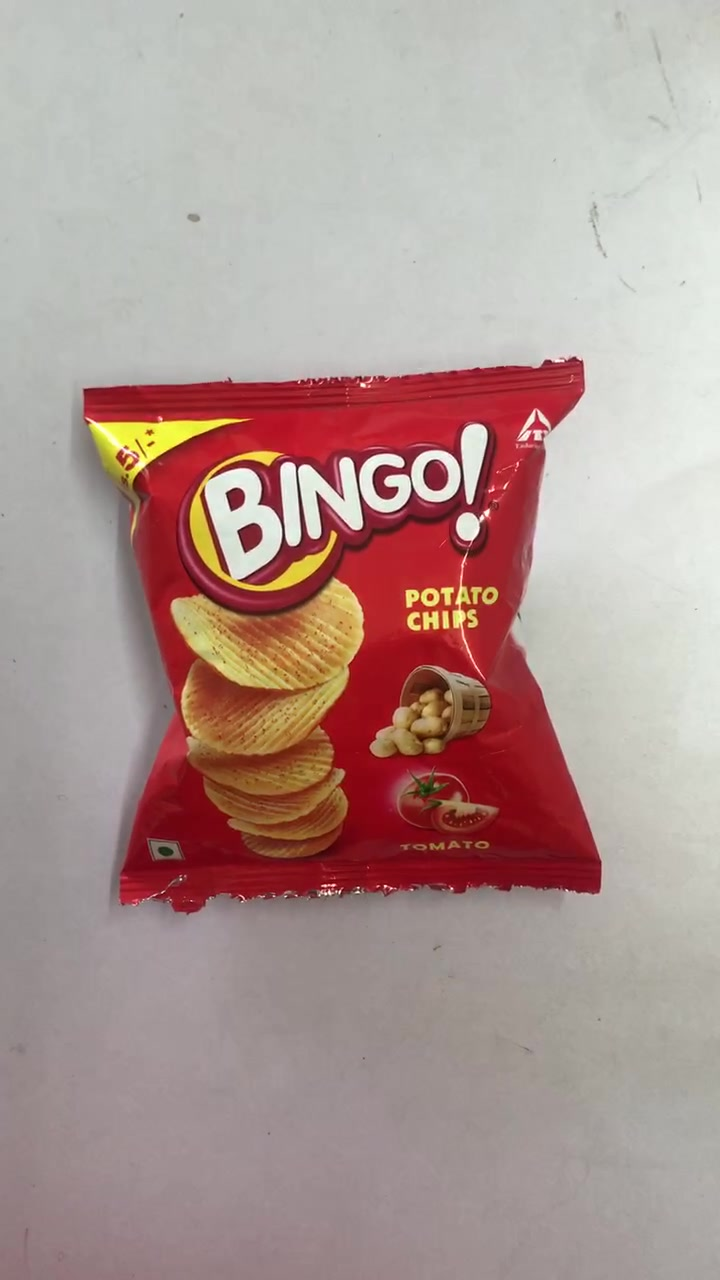Bingo: (84, 387, 606, 893)
